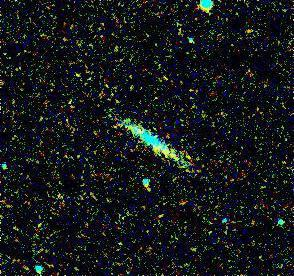star: (133, 174, 163, 204)
